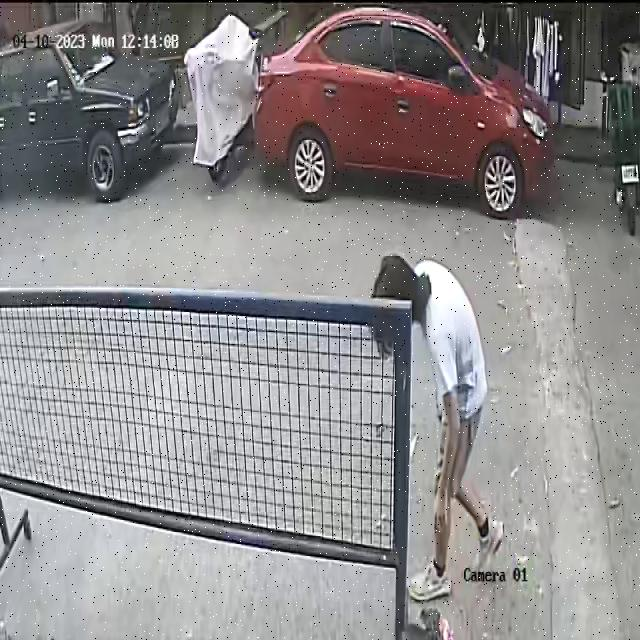human: (372, 255, 506, 640)
trash: (410, 599, 456, 640)
